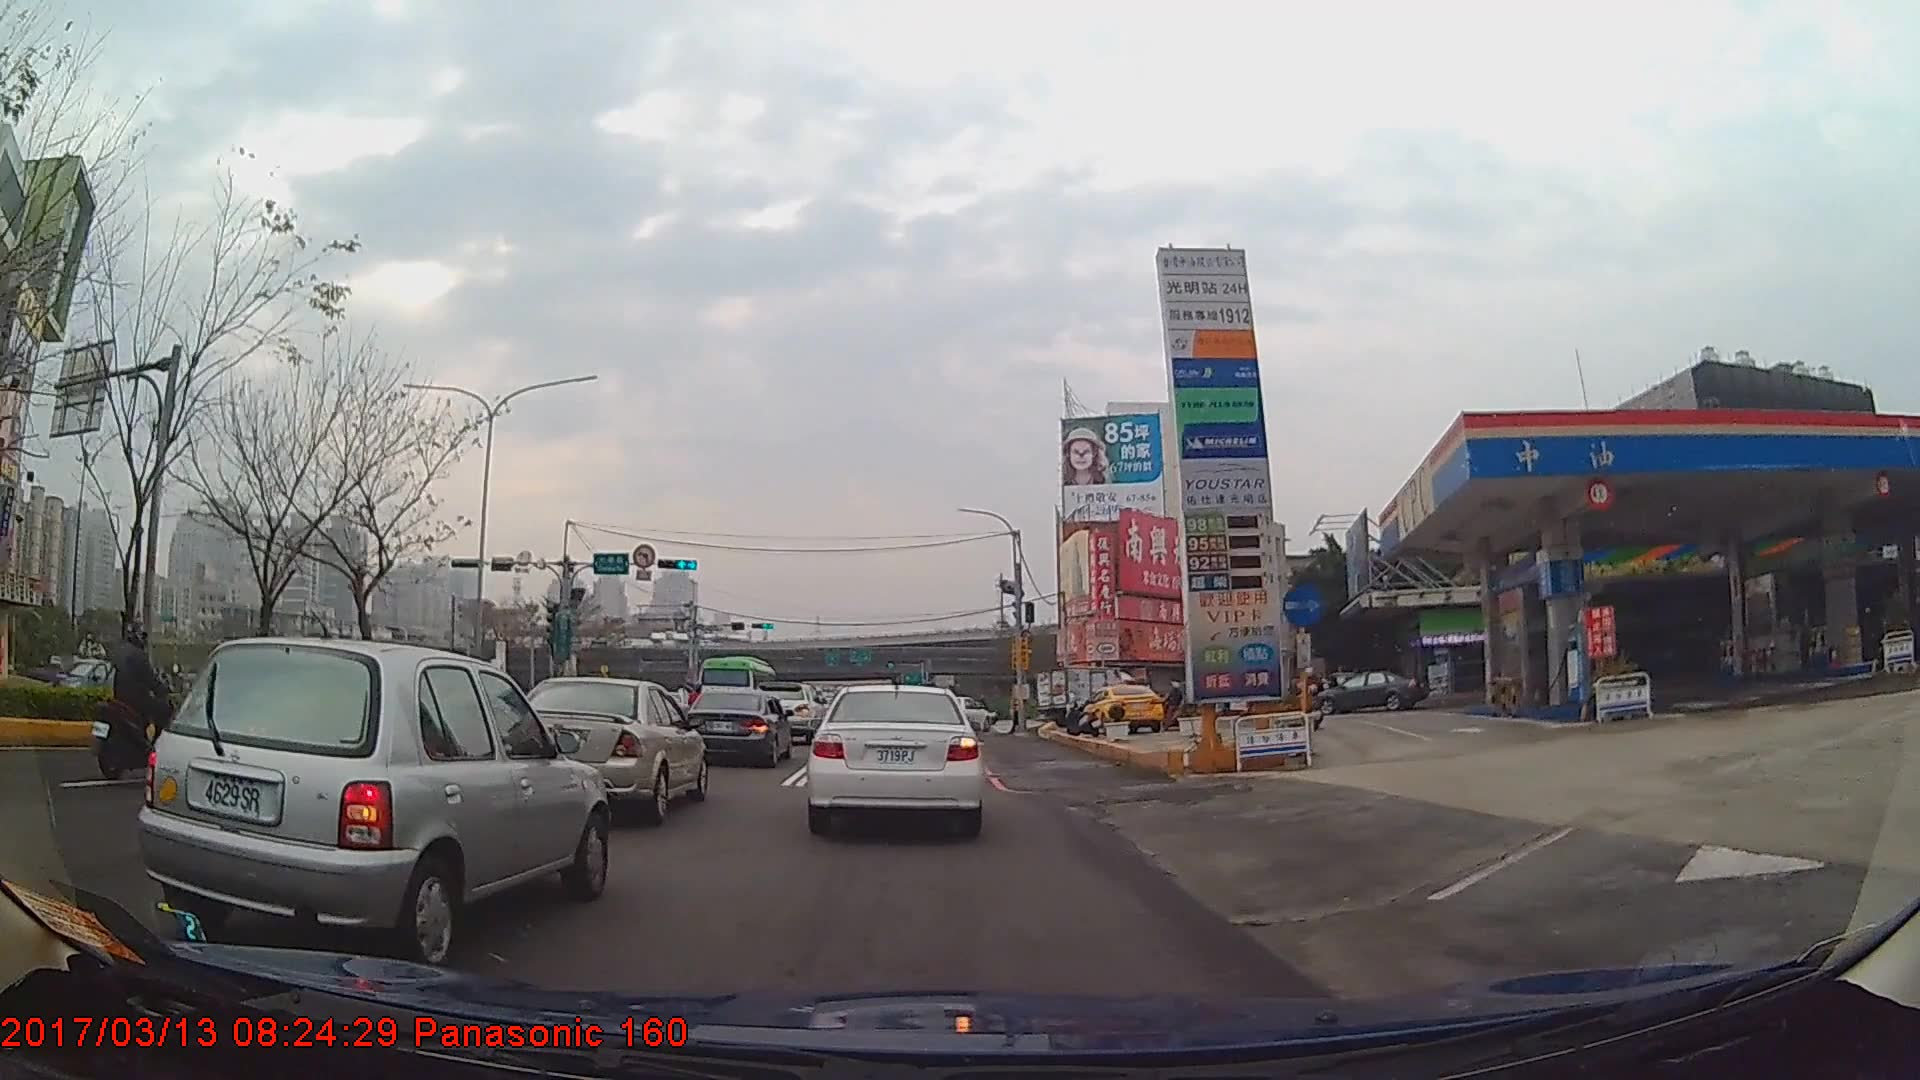rider: (93, 621, 177, 776), (1293, 667, 1325, 726), (1163, 680, 1196, 732), (1261, 673, 1281, 723)
vehicle: (135, 636, 611, 953), (504, 674, 709, 823), (809, 679, 982, 836), (677, 686, 794, 768), (1034, 664, 1141, 726), (694, 654, 777, 718), (1314, 669, 1426, 713), (753, 679, 828, 741), (1085, 681, 1164, 732), (49, 655, 121, 705), (935, 693, 993, 733)
